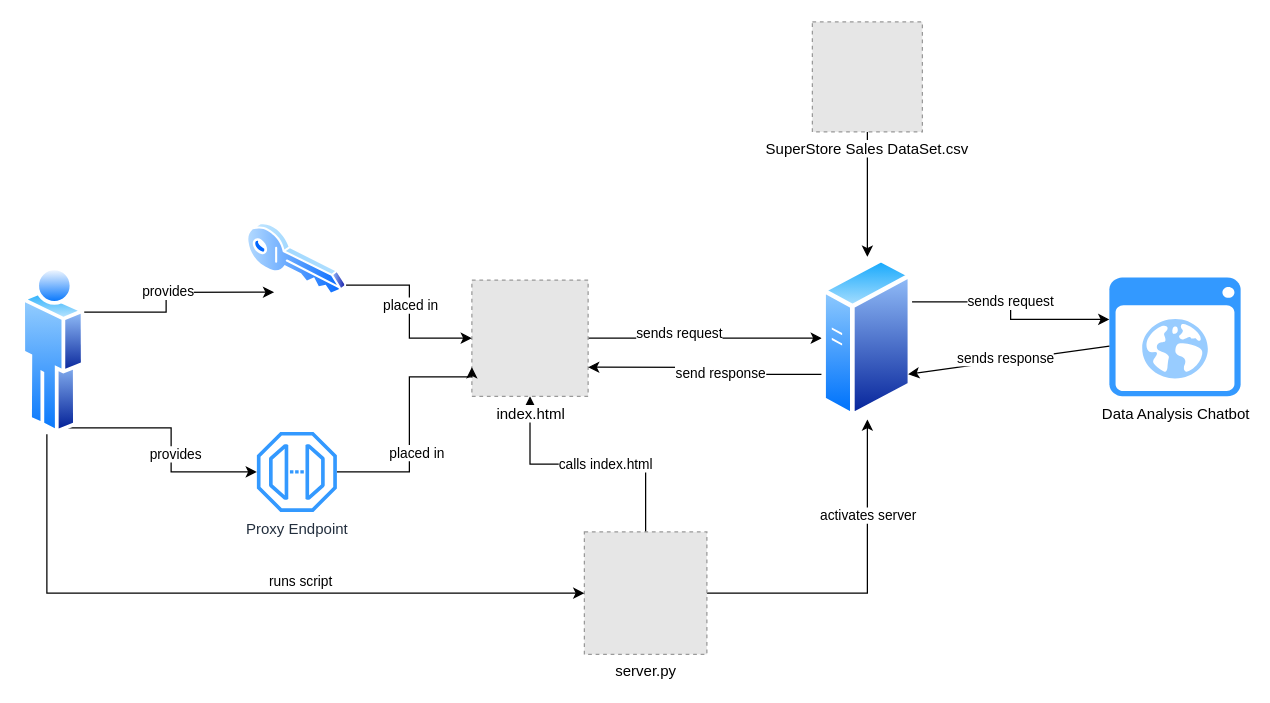
This 1270x703 diagram has some shape labels left out. Grey dashed boxes stand in for pictures. The shapes that lost their labels are listed below. From the top down, each one's centre as x and y in pixels, then its label:
the point at 296,259: API Key
the point at 53,350: User
the point at 866,337: Flask Server
